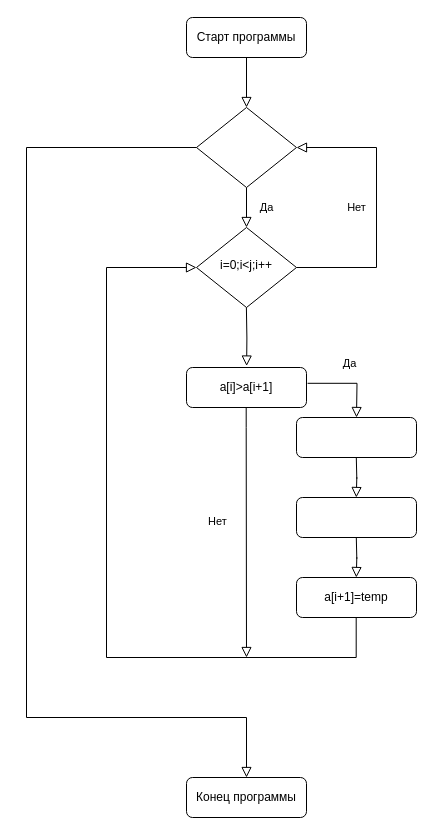
Image size: 434x835. Some labels were removed from this diagram. The box of each missing label's shape, as (x1, y1, x2, y2) in pixels:
a[i]=a[i+1]: (296, 496, 416, 538)
int temp = a[i]: (296, 416, 416, 458)
j=N-1;j>0;j--: (196, 106, 296, 188)
